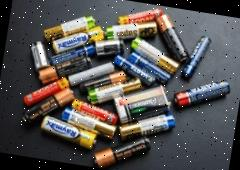electronic: (28, 1, 114, 58)
